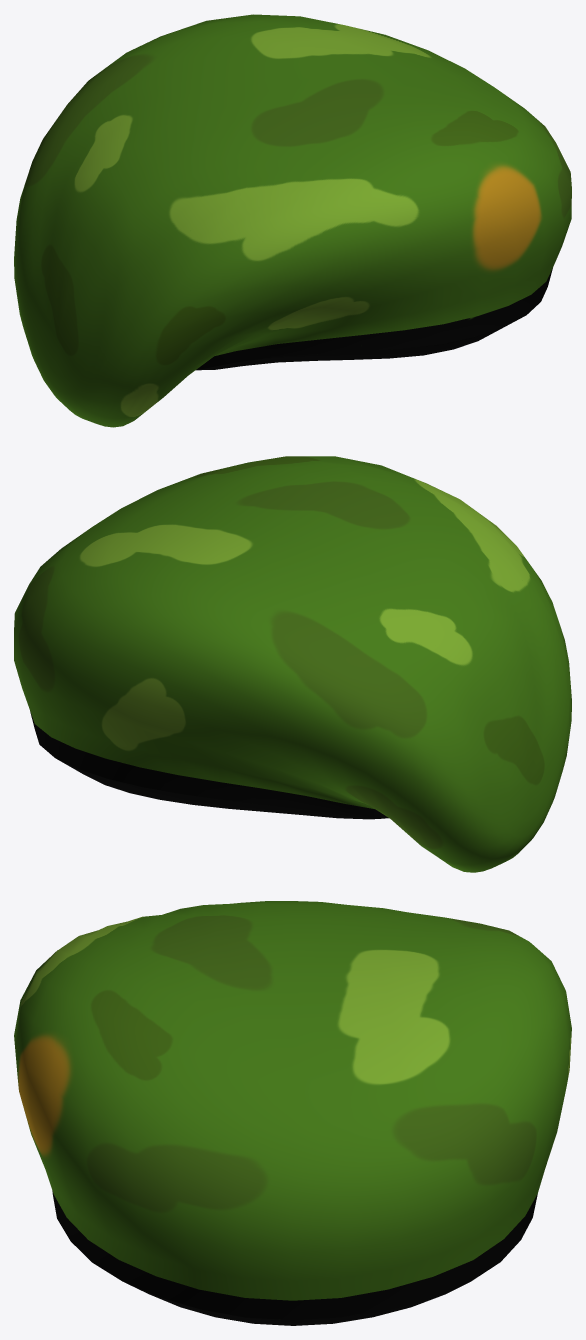
The model's file is SniperHat.fbx.
3 views of the same model, one above another, from view 1: azimuth 30°, elevation 25°; view 2: azimuth 150°, elevation 25°; view 3: azimuth 270°, elevation 25° (orthographic). The views are drawn at different scales.
Visible parts, largest first — view 1: Sphere; view 2: Sphere; view 3: Sphere.
Part boxes in pixels (box(x1,y1,x2,y2)): Sphere: box(14, 14, 571, 427); Sphere: box(14, 456, 571, 872); Sphere: box(14, 901, 571, 1325).
Bounding box in the file's own units: 76.52 × 44.36 × 66.47.
